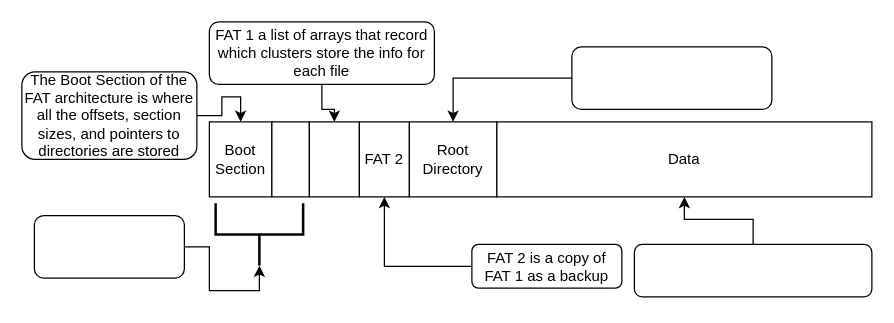
Some shapes in this 894 by 323 pixel diagram are drawn without their labels. Each missing label, with the centre of its shape:
"FAT 1" belongs at pixel 333 159.
"Reserved section of the drive where only the BIOS acesses" belongs at pixel 108 246.
"The Root Directory is where the hierarchy of files are stored" belongs at pixel 671 77.
"Where all the clusters that contain the data for the files are stored" belongs at pixel 752 270.
